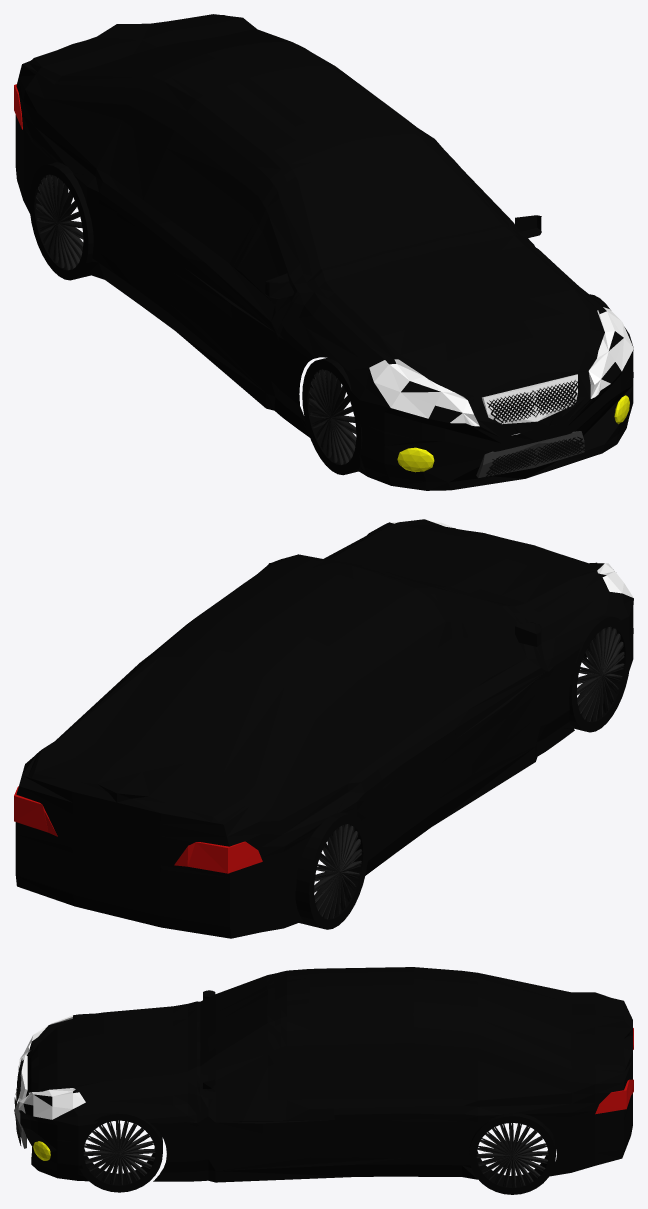
Rendered from CROWN_fixed2.obj.
The picture shows the model from 3 angles, top to bottom: view 1: azimuth 30°, elevation 25°; view 2: azimuth 150°, elevation 25°; view 3: azimuth 270°, elevation 25°; orthographic projection. The views are drawn at different scales.
Visible parts, largest first — view 1: 立方体.001; view 2: 立方体.001; view 3: 立方体.001.
Part boxes in pixels (x1,y1,x2,y2): 立方体.001: [14, 14, 633, 490]; 立方体.001: [14, 519, 633, 938]; 立方体.001: [14, 967, 633, 1194].
Size of the model in its own units: 38.53 by 28.52 by 99.82.
